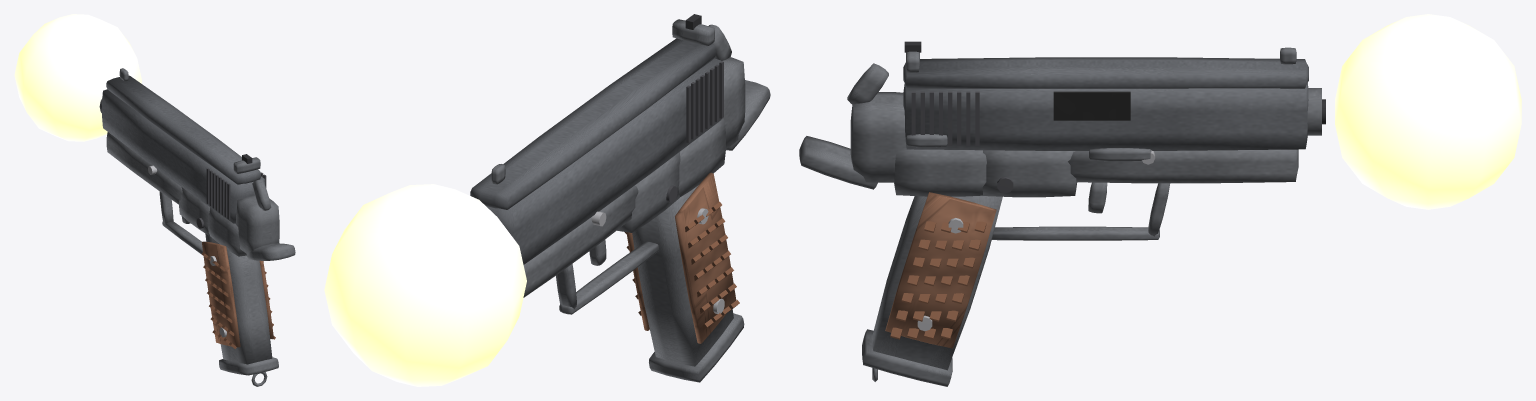
Rendered from pistol.glb.
3 views of the same model, side by side, from view 1: azimuth 30°, elevation 25°; view 2: azimuth 150°, elevation 25°; view 3: azimuth 270°, elevation 25° (orthographic). The views are drawn at different scales.
Visible parts, largest first — view 1: pistol_body, Flash; view 2: pistol_body, Flash; view 3: pistol_body, Flash.
Part boxes in pixels (left/top/right/bottom): pistol_body: left=99, top=68, right=295, bottom=386; Flash: left=14, top=14, right=141, bottom=141; pistol_body: left=470, top=14, right=770, bottom=382; Flash: left=324, top=184, right=526, bottom=386; pistol_body: left=799, top=41, right=1325, bottom=386; Flash: left=1335, top=14, right=1521, bottom=209.
Size of the model in its own units: 0.14 by 0.2815 by 0.5156.
9 materials, 8 textured.
